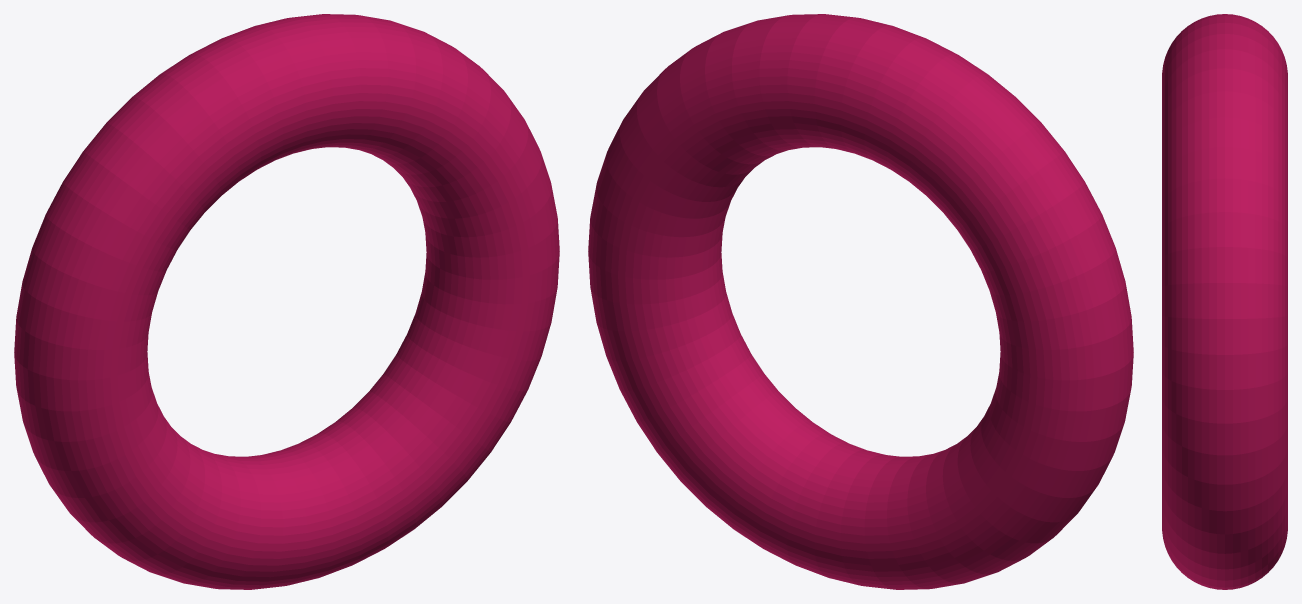
The picture shows the model from 3 angles, left to right: view 1: azimuth 30°, elevation 25°; view 2: azimuth 150°, elevation 25°; view 3: azimuth 270°, elevation 25°; orthographic projection. The views are drawn at different scales.
Parts seen in each view (by area): view 1: world; view 2: world; view 3: world.
Part boxes in pixels (box(x1,y1,x2,y2)): world: box(14, 14, 559, 589); world: box(588, 14, 1133, 589); world: box(1162, 14, 1287, 589).
Bounding box in the file's own units: 38.4 × 38.32 × 8.38.
